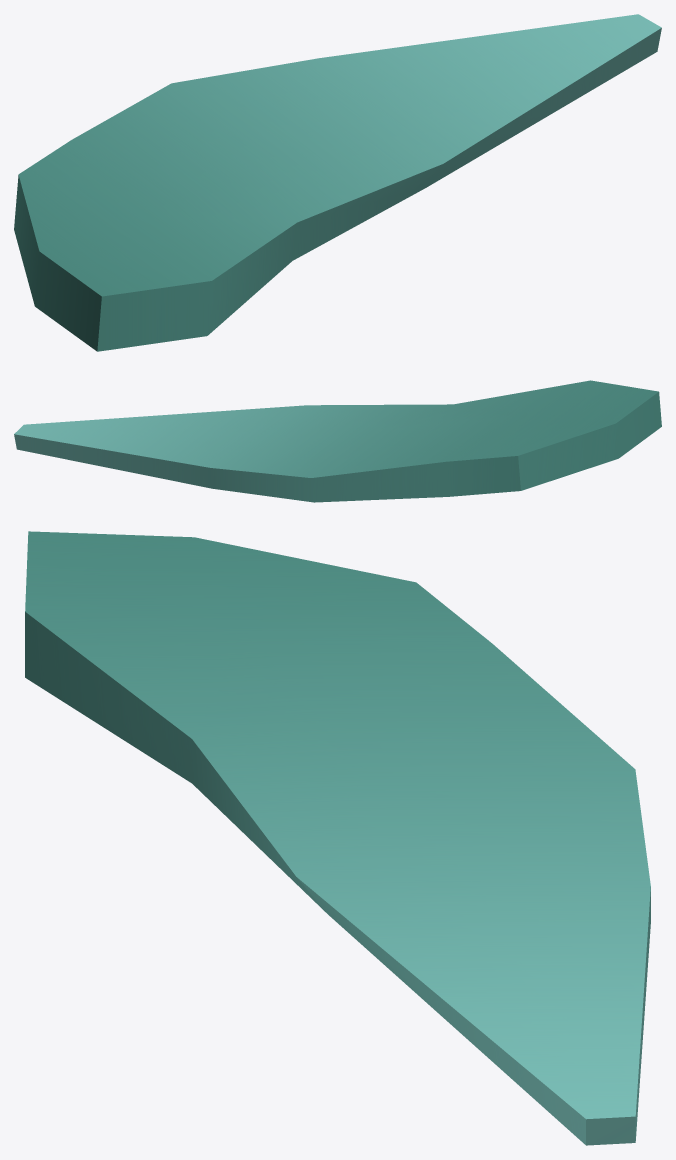
File: Whale_wingR.fbx
The picture shows the model from 3 angles, top to bottom: view 1: azimuth 30°, elevation 25°; view 2: azimuth 150°, elevation 25°; view 3: azimuth 270°, elevation 25°; orthographic projection. The views are drawn at different scales.
Parts seen in each view (by area): view 1: Whale_wingR; view 2: Whale_wingR; view 3: Whale_wingR.
Part boxes in pixels (x1,y1,x2,y2): Whale_wingR: [14, 14, 661, 351]; Whale_wingR: [14, 380, 661, 502]; Whale_wingR: [25, 531, 650, 1145].
Size of the model in its own units: 50.8 by 6.48 by 27.6.
